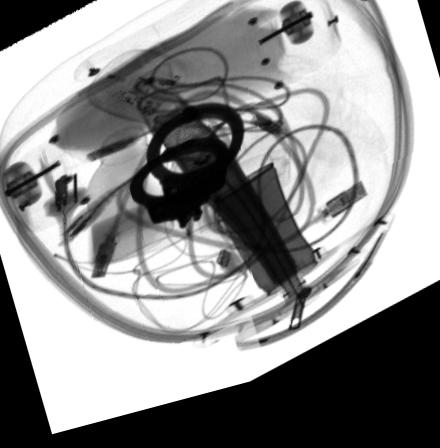HandCuffs: (128, 110, 244, 241)
